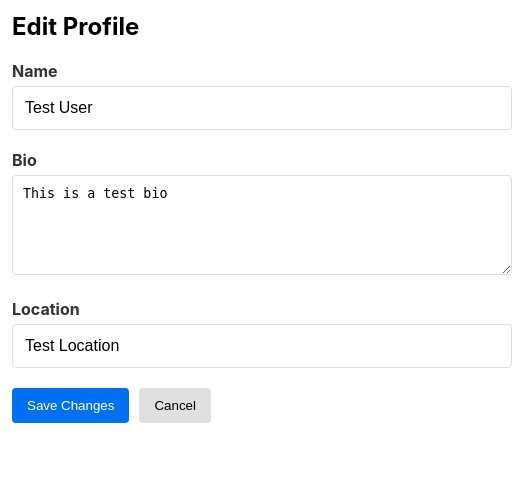
Test: EditProfileForm Component › shows error message when update fails
Step 1. Click the button "Save Changes" → [71, 406], box [12,388,129,423]
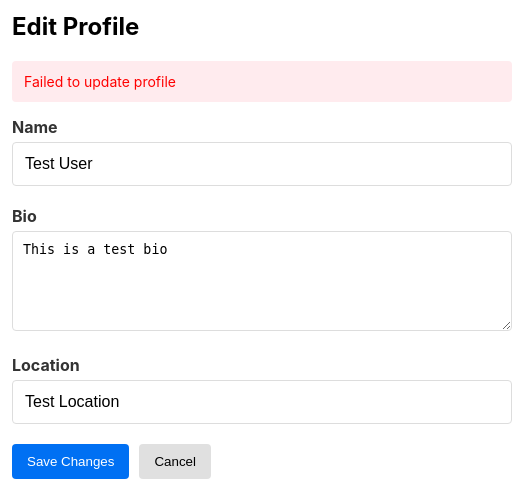
Result: the text "Failed to update profile" is shown at [12,61,512,102]
